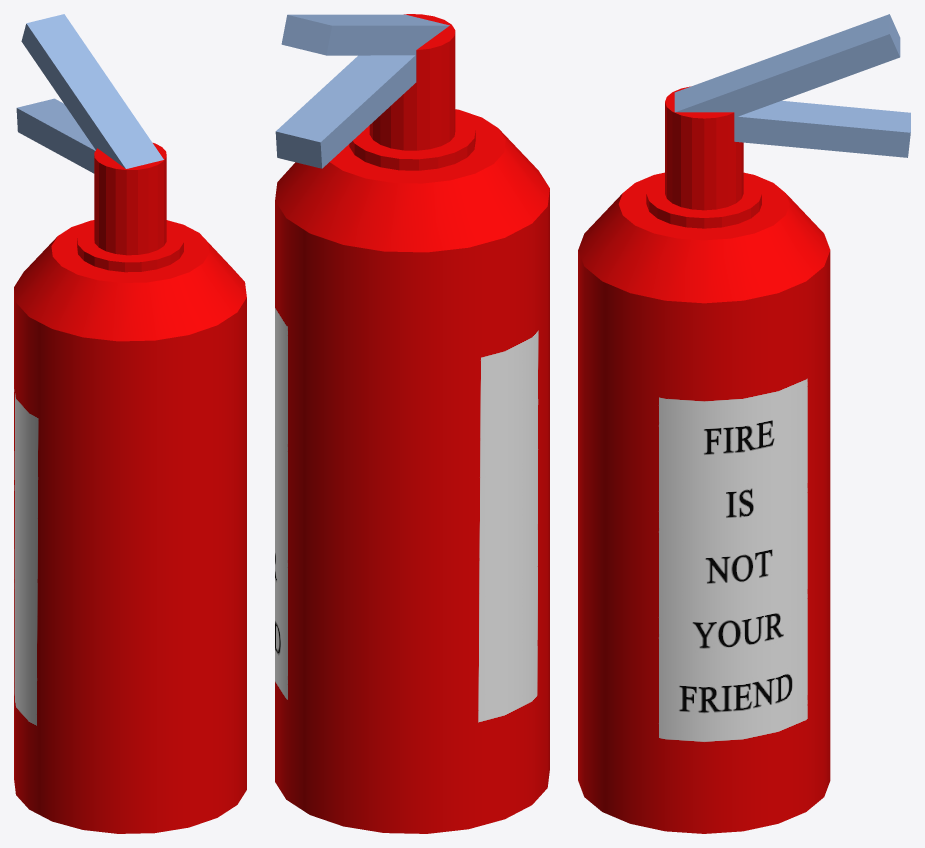
File: extinguisher.obj
3 renders of one model, left to right at view 1: azimuth 30°, elevation 25°; view 2: azimuth 150°, elevation 25°; view 3: azimuth 270°, elevation 25°, orthographic. The views are drawn at different scales.
Visible parts, largest first — view 1: Cylinder001; view 2: Cylinder001; view 3: Cylinder001.
Boxes of the visible parts, left/top/right/bottom form: Cylinder001: left=14, top=14, right=246, bottom=833; Cylinder001: left=275, top=14, right=549, bottom=833; Cylinder001: left=578, top=14, right=910, bottom=833.
Size of the model in its own units: 32.82 by 109 by 43.3.
